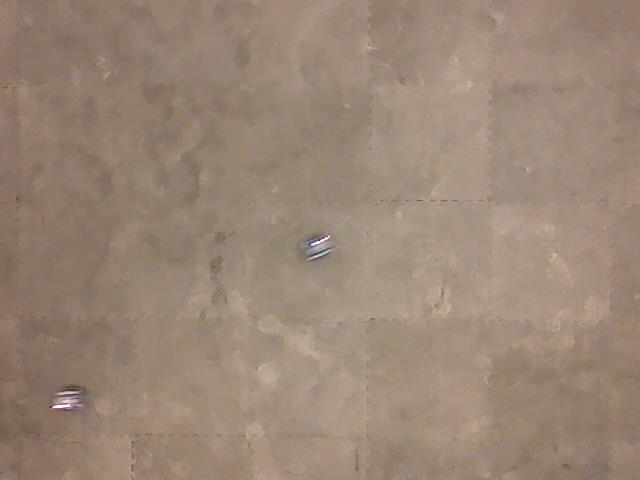Agent: (299, 230, 337, 262), (48, 384, 88, 413)
